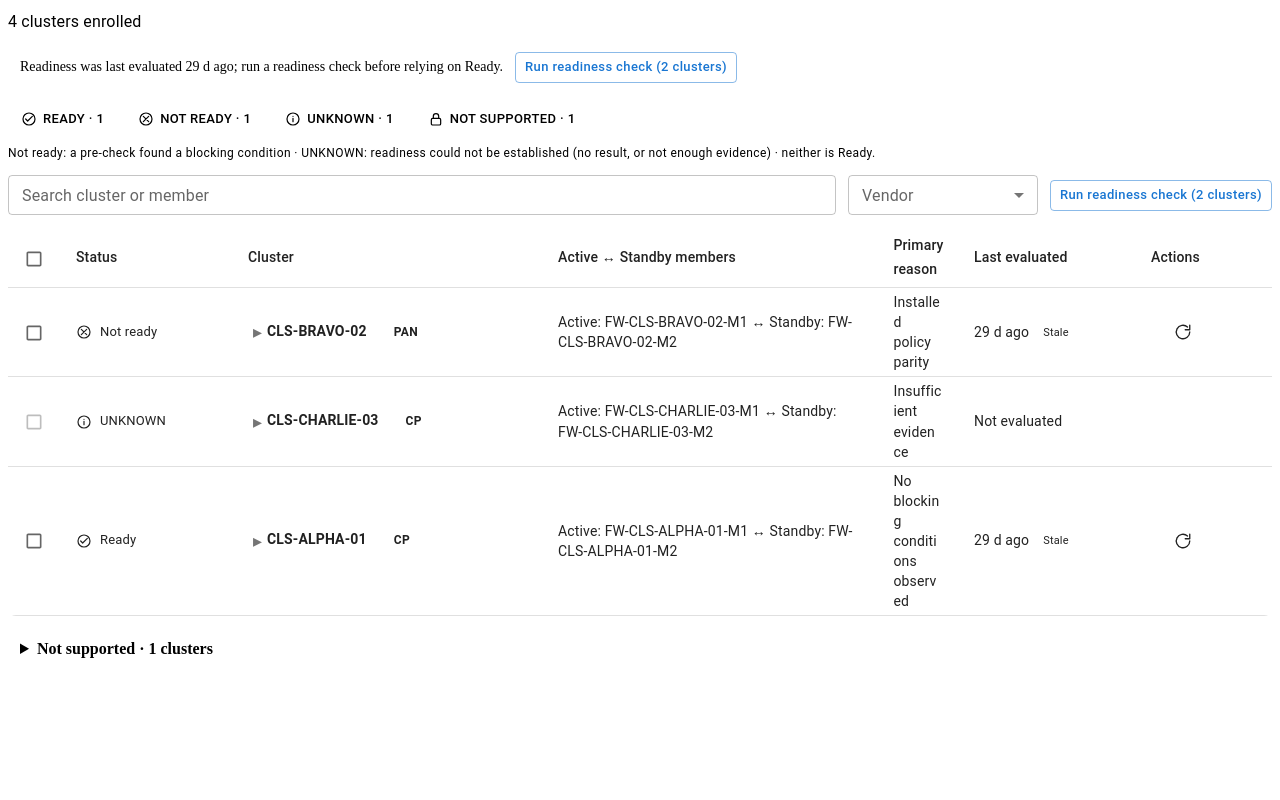
Test: selects and deselects only filtered visible authorized rows, retaining other selection
Click the checkbox named "Select CLS-ALPHA-01": {"x": 34, "y": 541} [24,531,44,551]
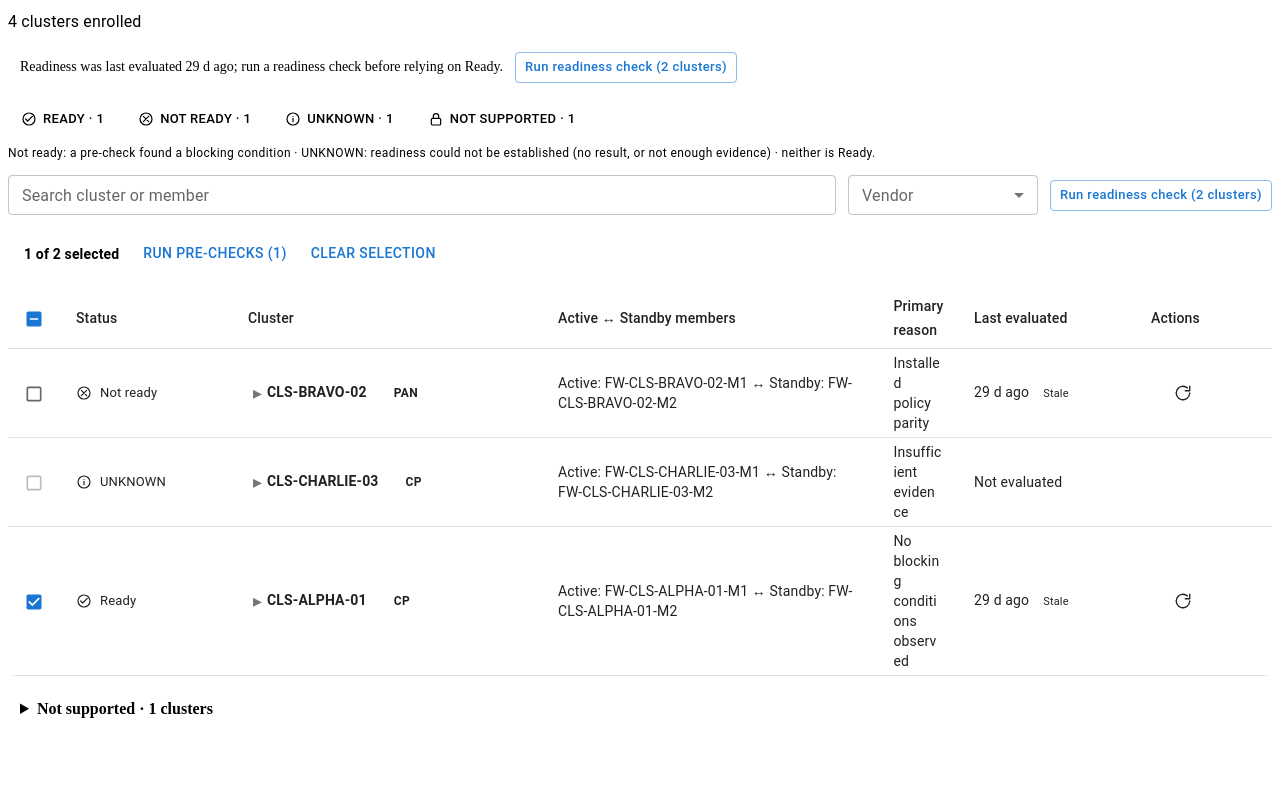
Click the button with aria-label "Not ready: 1 units": {"x": 195, "y": 119} [125,103,264,136]
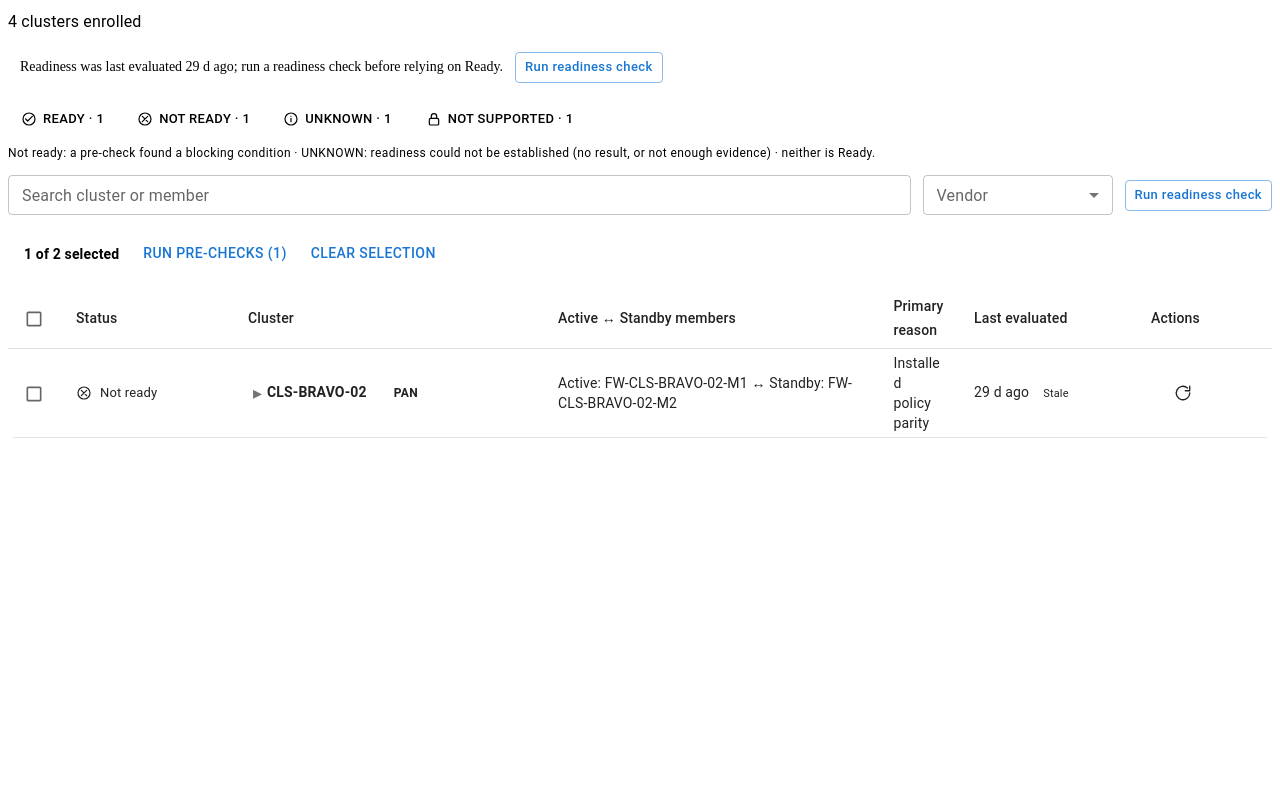
Click the checkbox named "Select all visible": {"x": 34, "y": 319} [24,309,44,329]
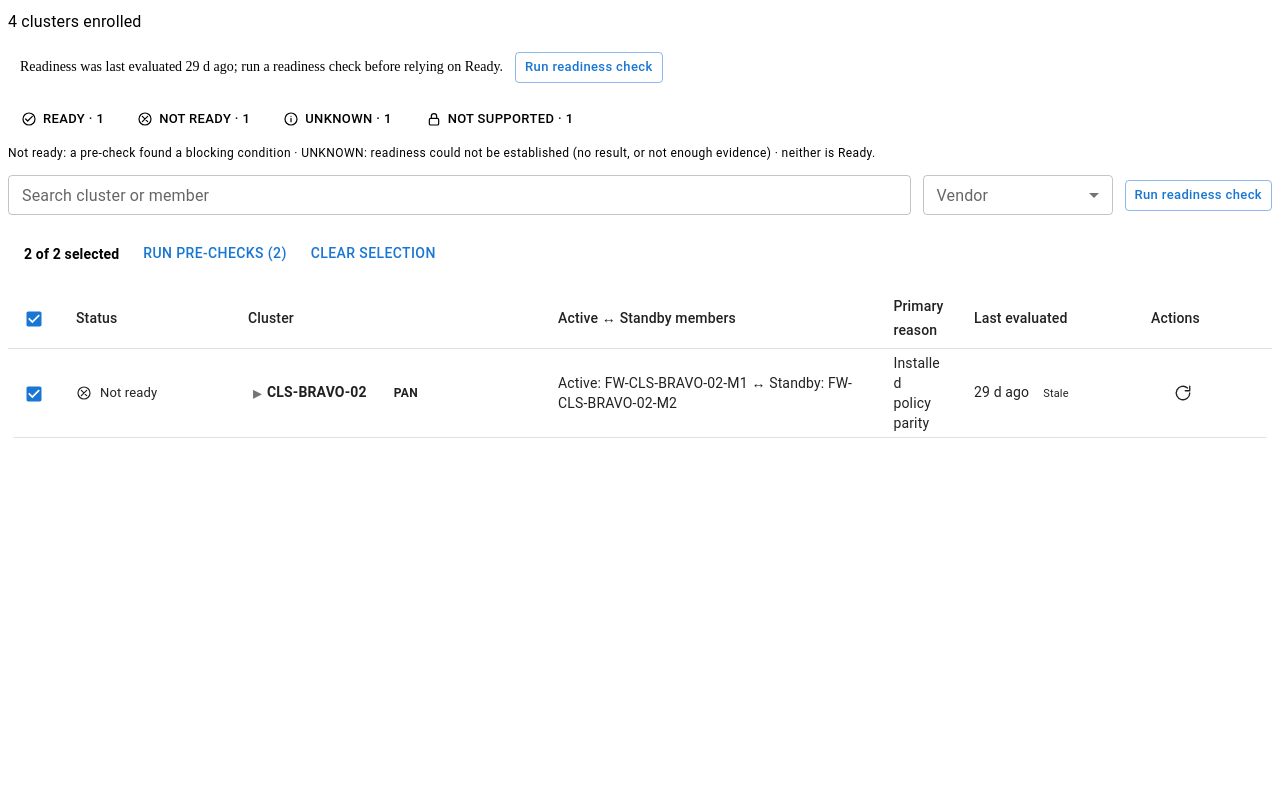
expect the checkbox named "Select all visible" is checked: met
expect the button "Run pre-checks (2)" is shown: met, box [135,235,295,272]
Click the checkbox named "Select all visible": {"x": 34, "y": 319} [24,309,44,329]
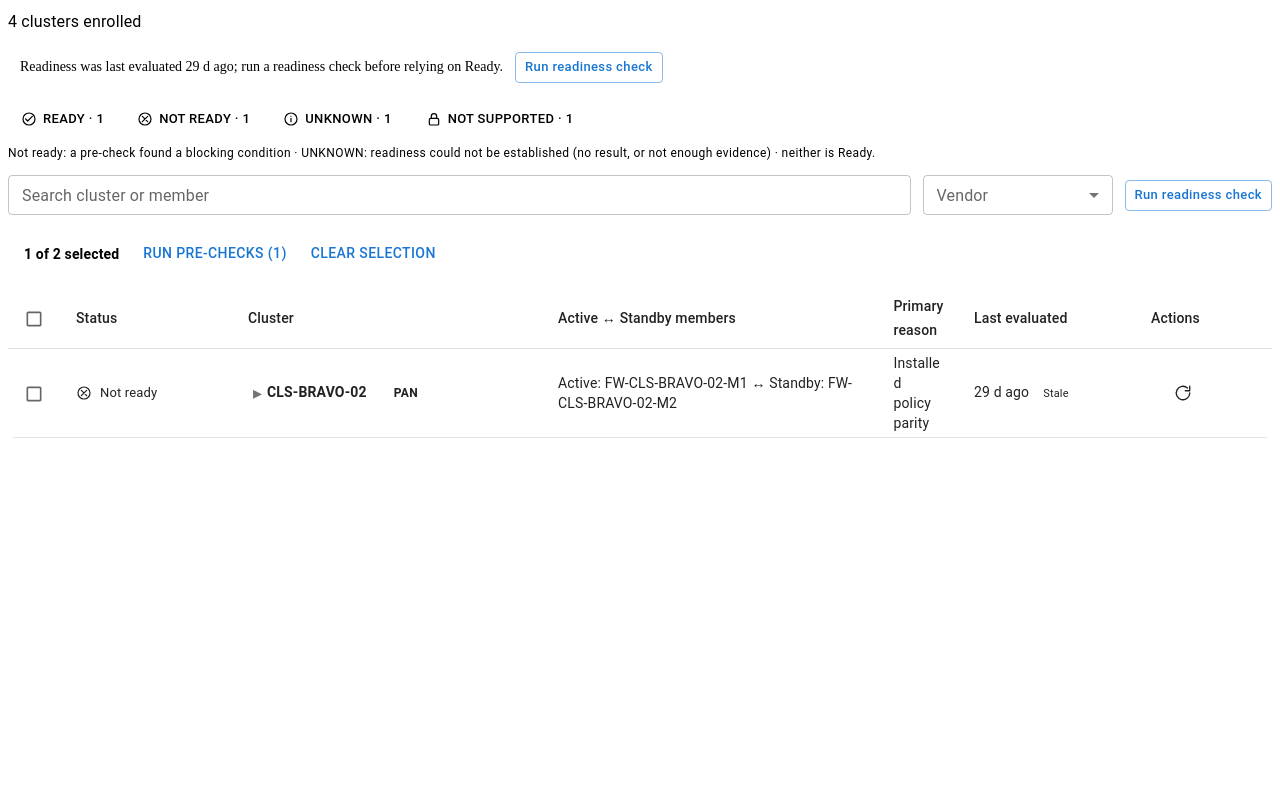
expect the button "Run pre-checks (1)" is shown: met, box [135,235,295,272]
